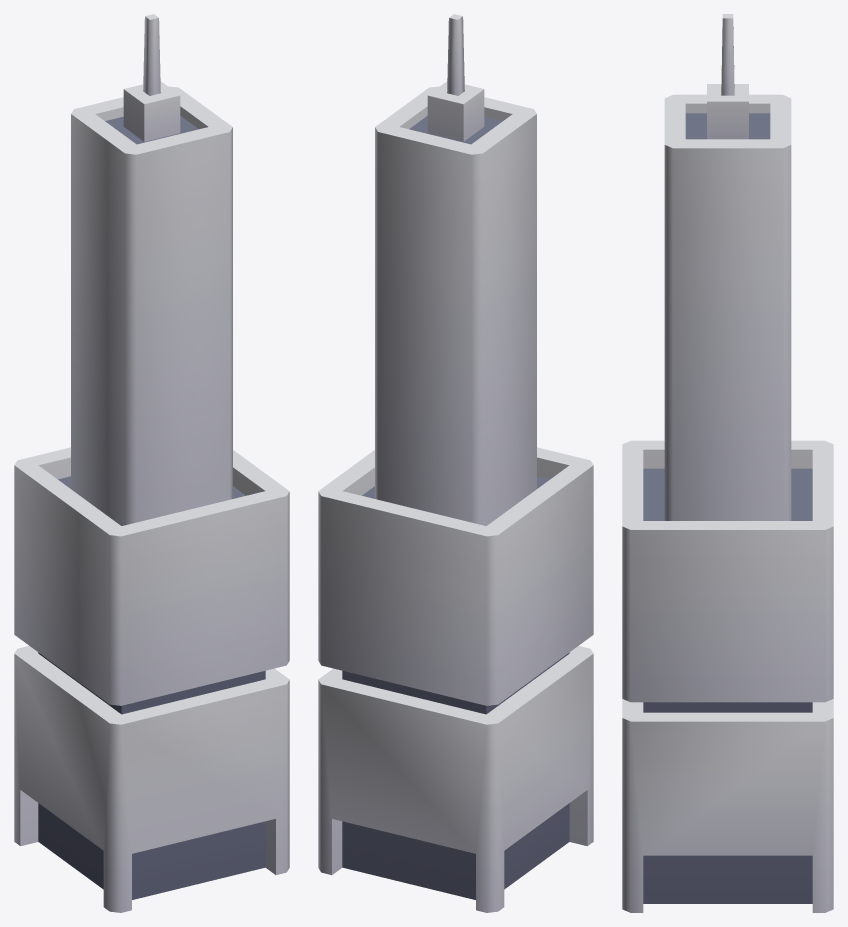
Rendered from low-detail-building-b.glb.
3 renders of one model, left to right at view 1: azimuth 30°, elevation 25°; view 2: azimuth 150°, elevation 25°; view 3: azimuth 270°, elevation 25°, orthographic.
Parts seen in each view (by area): view 1: low-detail-building-b; view 2: low-detail-building-b; view 3: low-detail-building-b.
Part boxes in pixels (bbox=[...]): low-detail-building-b: bbox=[14, 14, 289, 912]; low-detail-building-b: bbox=[318, 14, 593, 912]; low-detail-building-b: bbox=[622, 14, 833, 912].
Bounding box in the file's own units: 0.5 × 2.23 × 0.5.
Materials: 1 (1 with a texture image).
